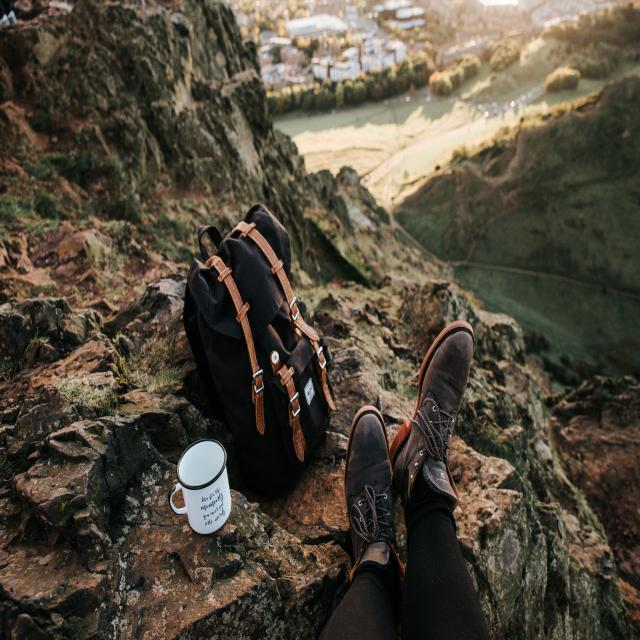backpack: (172, 205, 336, 496)
